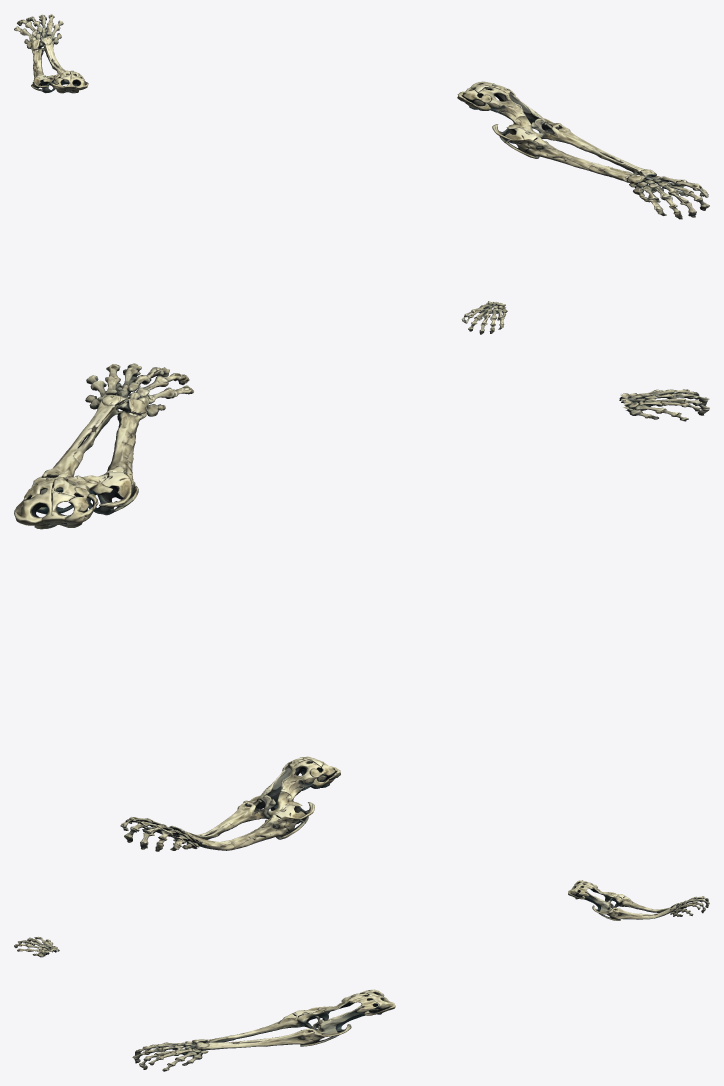
File: valley_tripo_arm.glb
The picture shows the model from 3 angles, top to bottom: view 1: azimuth 30°, elevation 25°; view 2: azimuth 150°, elevation 25°; view 3: azimuth 270°, elevation 25°; orthographic projection. The views are drawn at different scales.
Parts seen in each view (by area): view 1: Eastern forearm, Northern forearm, Buried hand beneath the bone fixture; view 2: Eastern forearm, Northern forearm, Buried hand beneath the bone fixture; view 3: Eastern forearm, Northern forearm, Buried hand beneath the bone fixture.
Part boxes in pixels (x1,y1,x2,y2): Eastern forearm: (457, 81, 709, 219); Northern forearm: (14, 14, 88, 93); Buried hand beneath the bone fixture: (461, 301, 507, 334); Eastern forearm: (14, 363, 193, 529); Northern forearm: (120, 756, 340, 851); Buried hand beneath the bone fixture: (619, 389, 709, 421); Eastern forearm: (132, 989, 395, 1071); Northern forearm: (568, 880, 709, 920); Buried hand beneath the bone fixture: (14, 936, 59, 957).
Bounding box in the file's own units: 6.69 × 0.746 × 11.7.
Materials: 1 (1 with a texture image).
